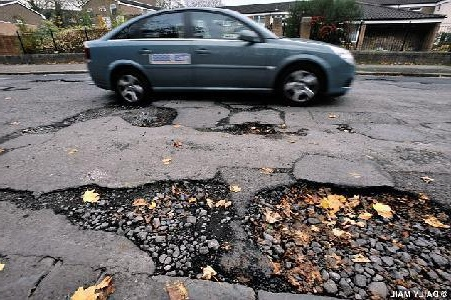pothole: (37, 170, 450, 300), (120, 103, 179, 129), (220, 119, 280, 136)
